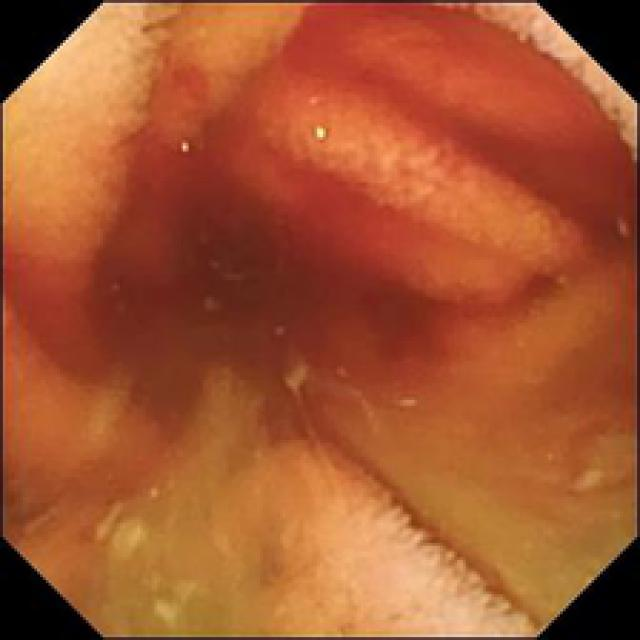bleeding: (34, 2, 637, 418), (334, 430, 528, 610), (0, 420, 117, 577)
